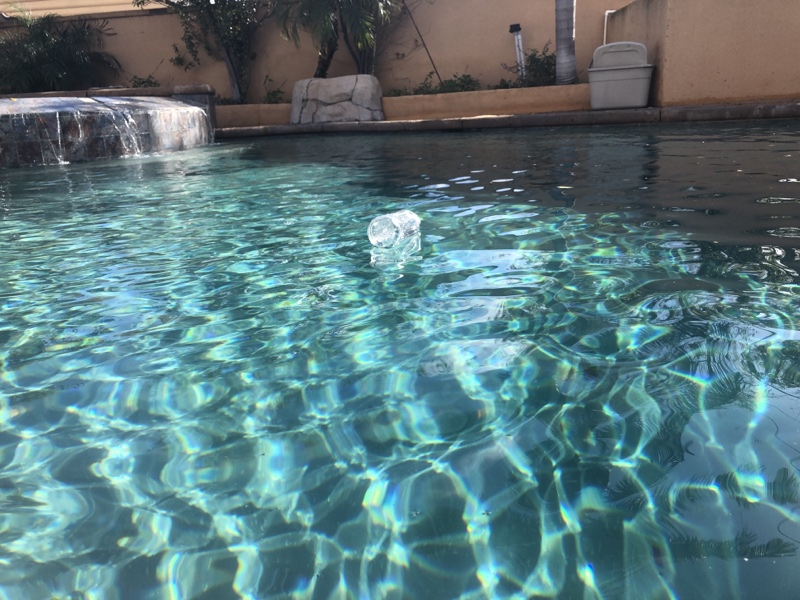Plastic Bottle: (364, 209, 426, 249)
